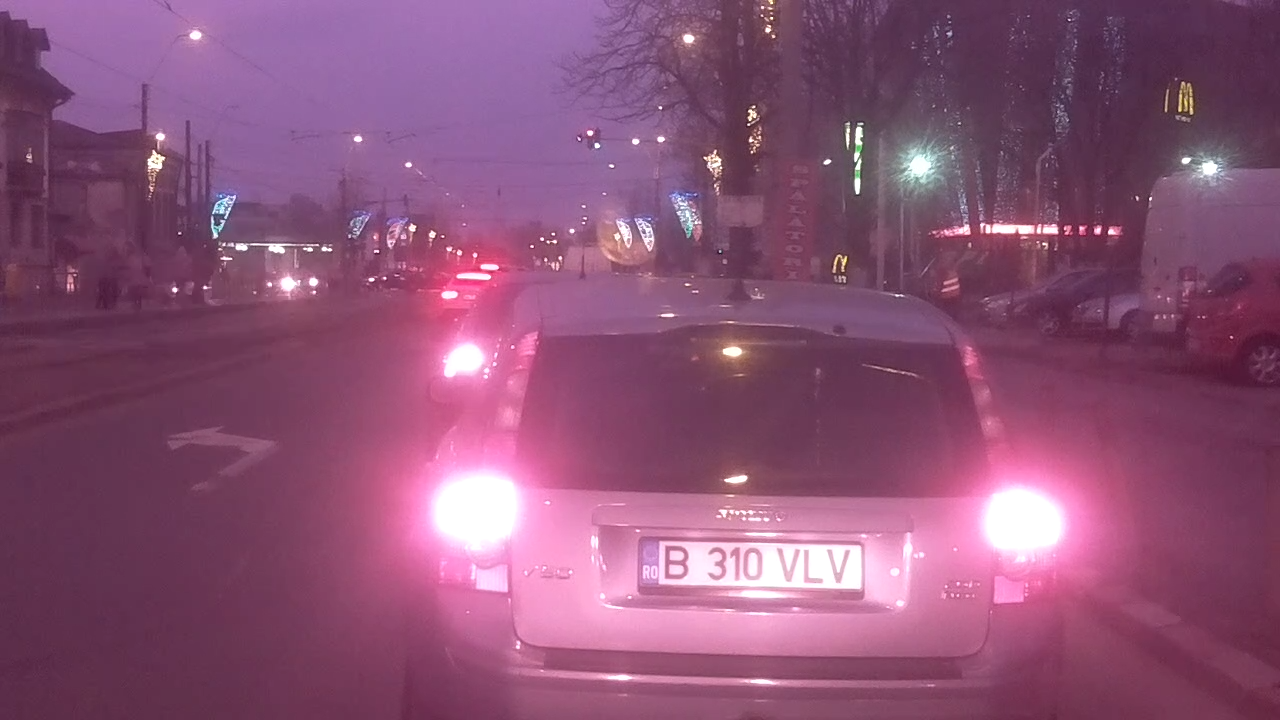license-plate: (625, 526, 875, 601)
